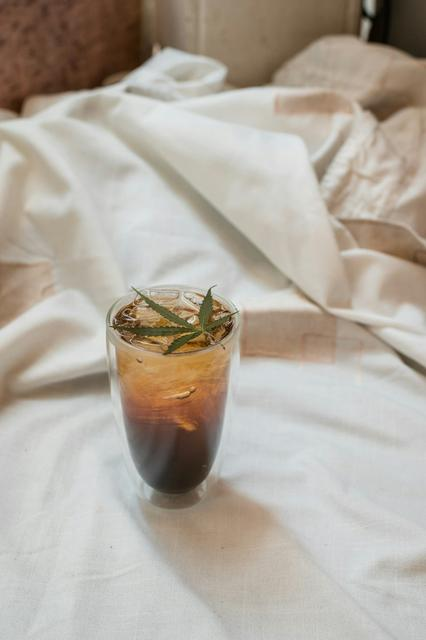Marijuana Bud: (109, 281, 239, 355)
